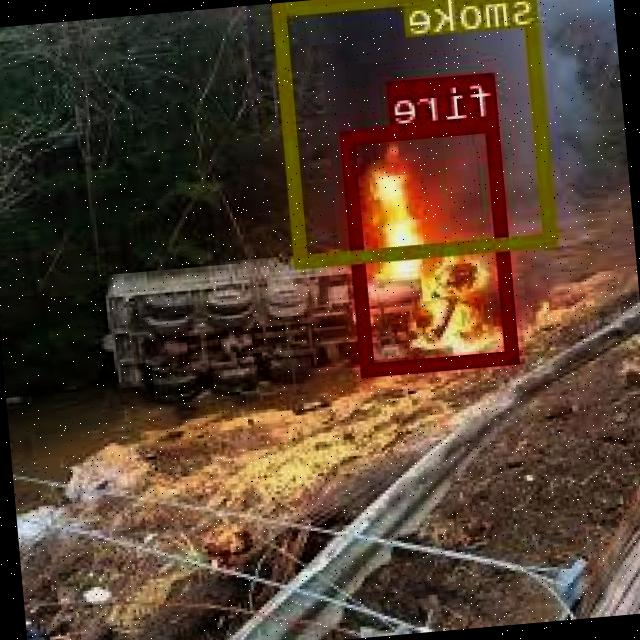fire: (344, 116, 520, 374)
smoke: (275, 0, 559, 264)
